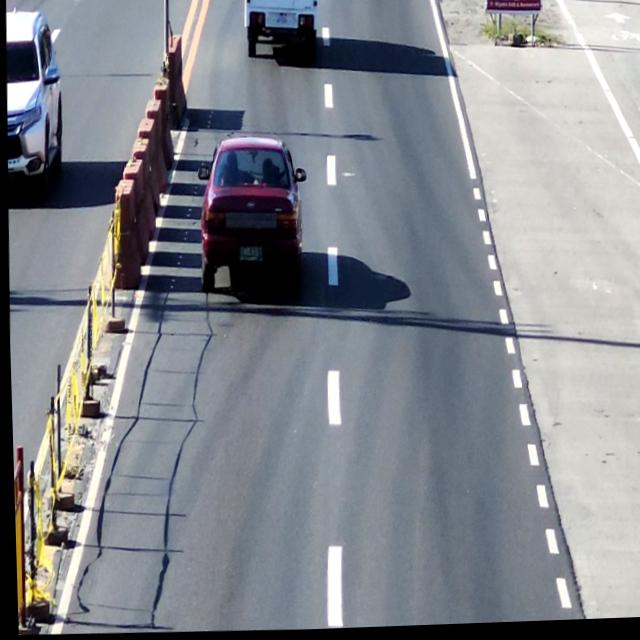Car: (193, 128, 313, 311)
License-Plate: (231, 242, 264, 268)
